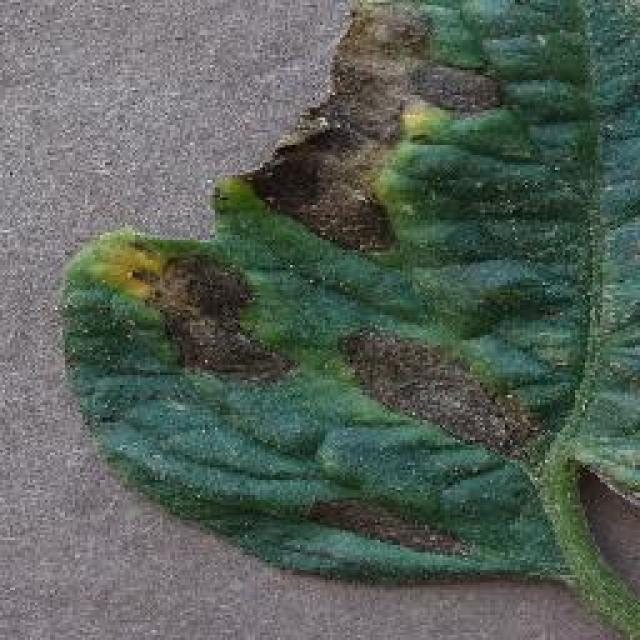Tomato Early blight leaf: (67, 0, 640, 607)
